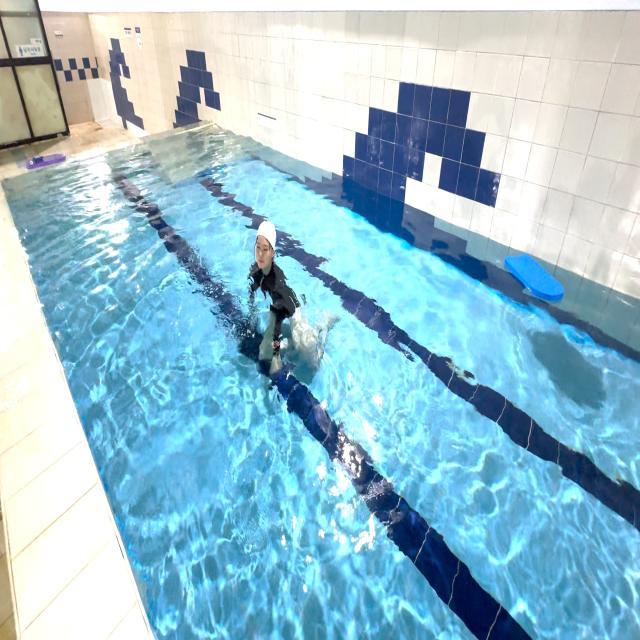Swimming: (210, 190, 349, 407)
